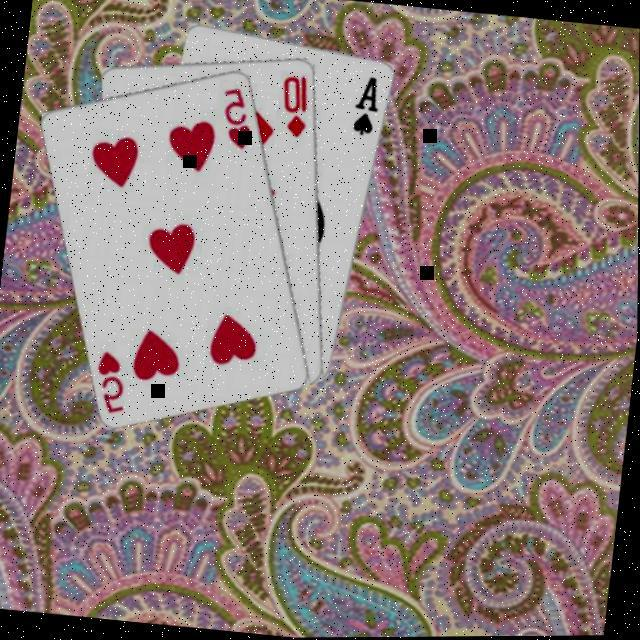10D: (274, 68, 314, 139)
5H: (214, 80, 259, 150), (90, 344, 132, 414)
AS: (348, 70, 384, 138)
